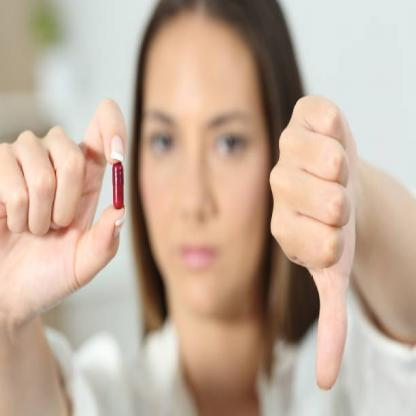thumb_down: (264, 86, 366, 394)
